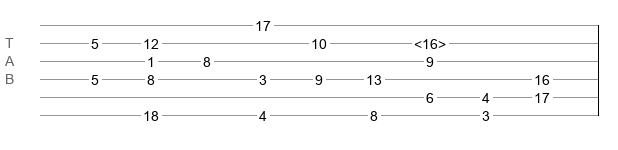1: (147, 54, 155, 64)
10: (311, 36, 327, 46)
12: (143, 36, 159, 46)
13: (366, 72, 382, 82)
16: (534, 72, 550, 82)
17: (255, 18, 271, 28), (534, 90, 550, 100)
18: (143, 108, 159, 118)
3: (259, 72, 267, 82), (482, 108, 490, 118)
4: (259, 108, 267, 118), (482, 90, 490, 100)
5: (91, 72, 99, 82), (91, 36, 99, 46)
6: (426, 90, 434, 100)
8: (147, 72, 155, 82), (203, 54, 211, 64), (370, 108, 378, 118)
9: (315, 72, 323, 82), (426, 54, 434, 64)
harmonic: (414, 36, 446, 46)
